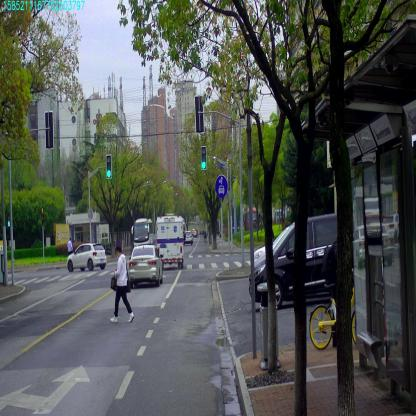traffic-light: (107, 155, 112, 178), (201, 146, 206, 169)
